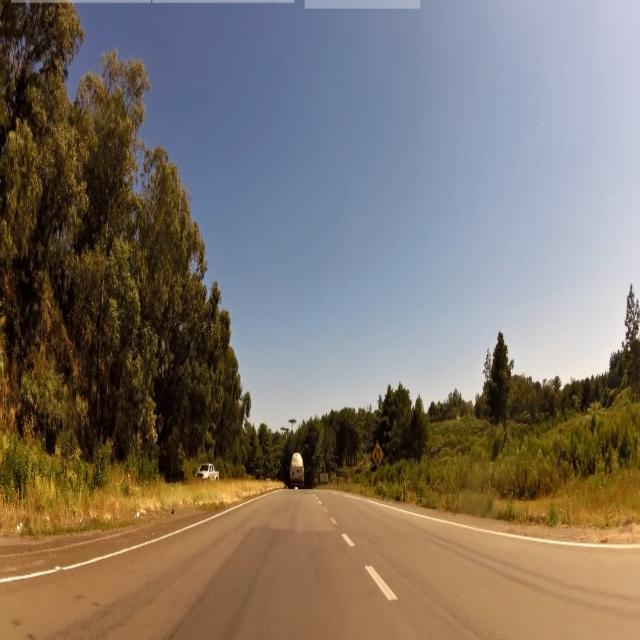A-42b: (372, 439, 384, 468)
